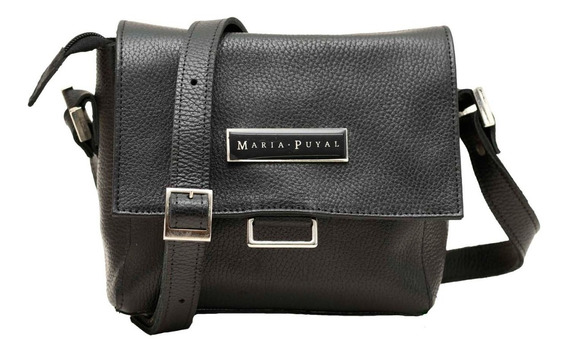cartera: (94, 16, 468, 334)
